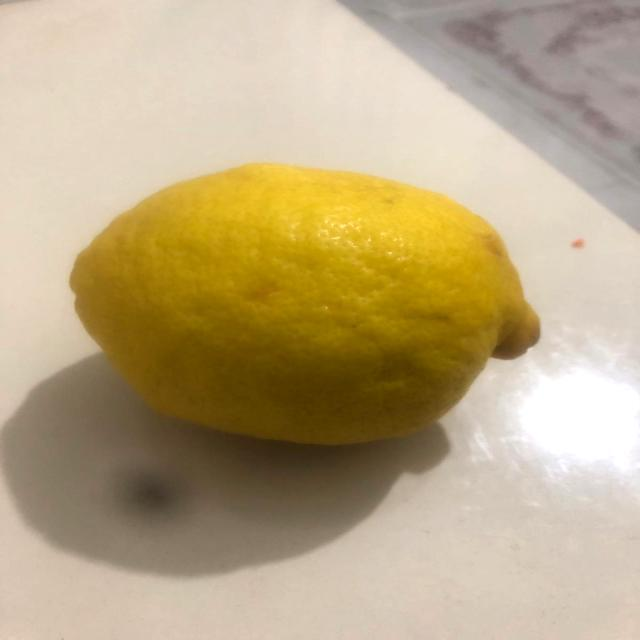lemon: (56, 149, 555, 455)
